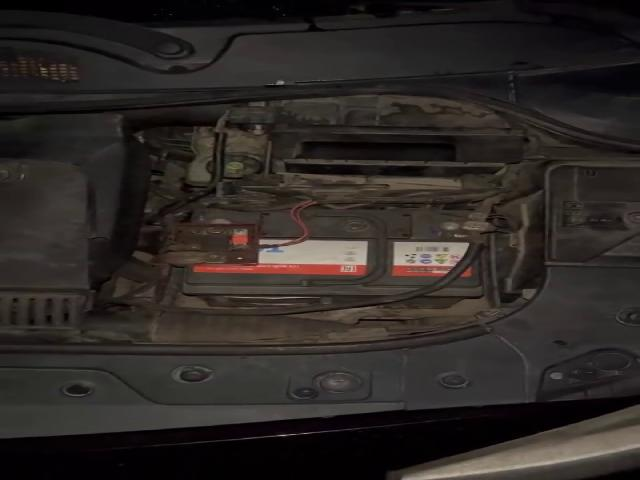accumulator: (151, 208, 491, 309)
fuse_box: (516, 159, 637, 267)
